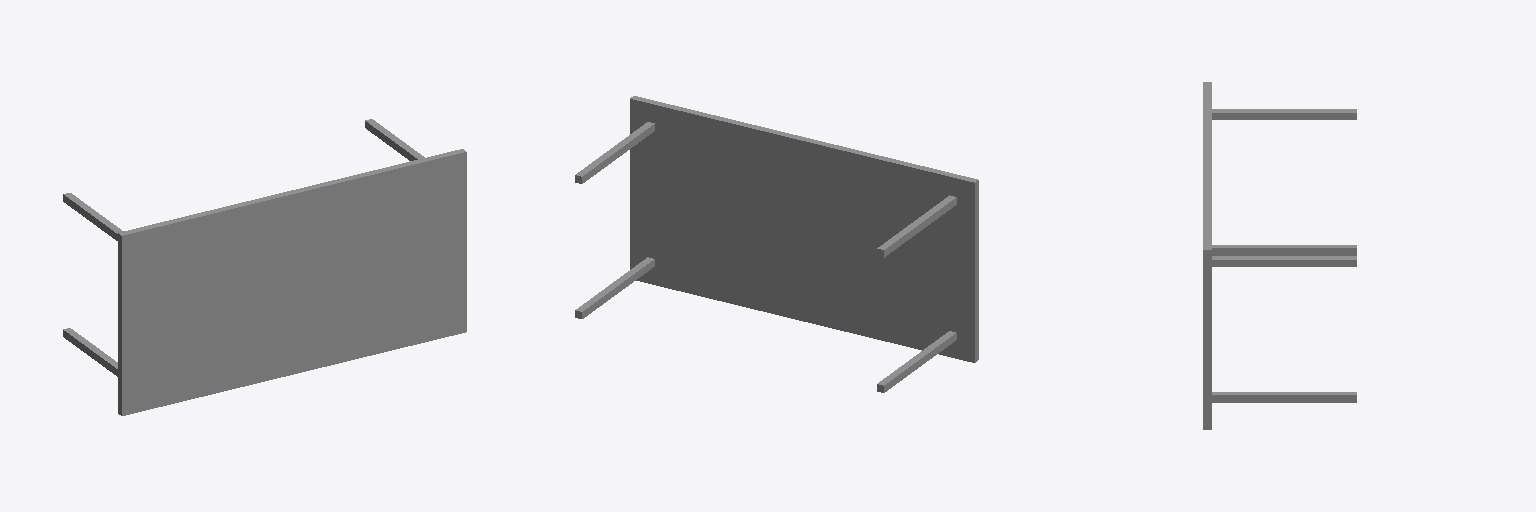
Rendered from tableFinale.obj.
3 renders of one model, left to right at view 1: azimuth 30°, elevation 25°; view 2: azimuth 150°, elevation 25°; view 3: azimuth 270°, elevation 25°, orthographic.
Parts seen in each view (by area): view 1: Cube.002_Cube.000; view 2: Cube.002_Cube.000; view 3: Cube.002_Cube.000.
Boxes of the visible parts, box(x1,y1,x2,y2) form: Cube.002_Cube.000: box(63, 119, 466, 415); Cube.002_Cube.000: box(575, 96, 978, 392); Cube.002_Cube.000: box(1203, 82, 1356, 429).
Size of the model in its own units: 96 by 48 by 37.